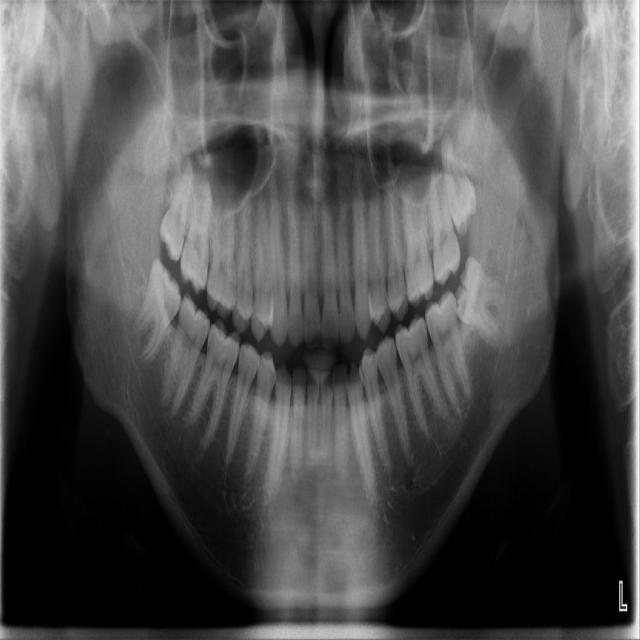3M ESPE Implant: (154, 150, 200, 263)
73: (618, 593, 622, 597)
BioHorizons Implant: (428, 142, 462, 285)
BioLife Implant: (436, 124, 483, 238)
Biomet 3i Implant: (445, 254, 522, 341)
Blue Sky Bio Implant: (422, 290, 475, 413)
Caries: (178, 156, 218, 293)
Implant: (159, 292, 216, 413)
Keystone Dental Implant: (122, 257, 193, 367)
